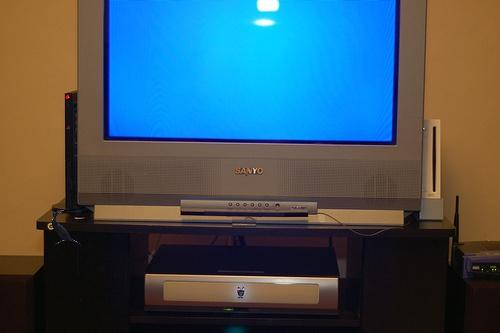tampered: (53, 211, 83, 246)
